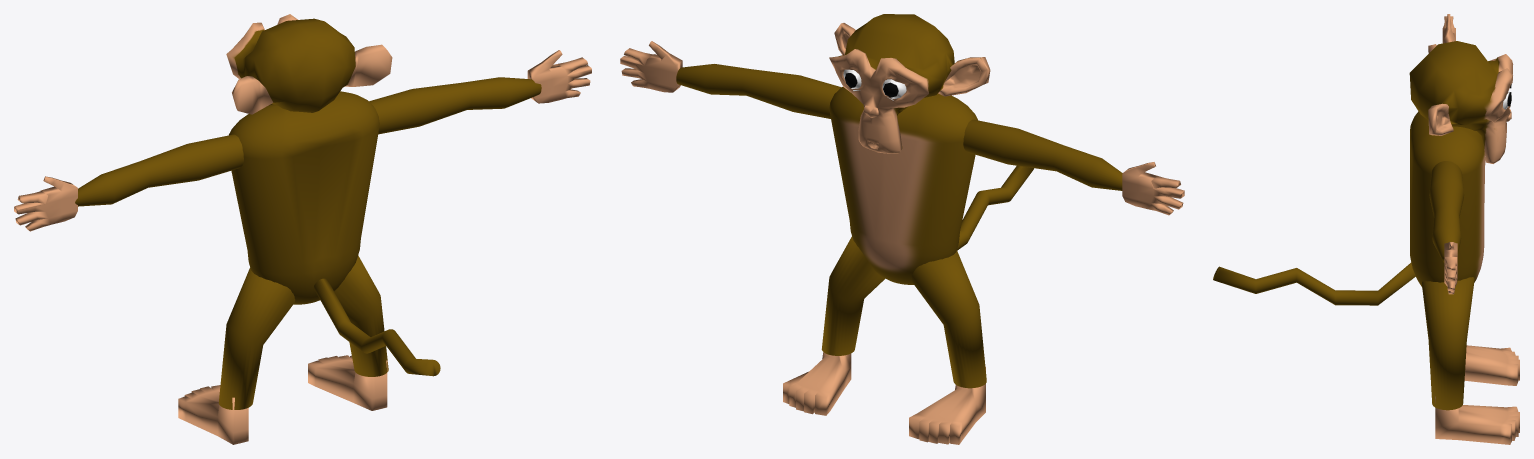
The model's file is Monkey2.fbx.
3 views of the same model, side by side, from view 1: azimuth 30°, elevation 25°; view 2: azimuth 150°, elevation 25°; view 3: azimuth 270°, elevation 25° (orthographic). The views are drawn at different scales.
Visible parts, largest first — view 1: LeftArm; view 2: LeftArm; view 3: LeftArm.
Boxes of the visible parts, <box> form: LeftArm: <box>14,14,591,444</box>; LeftArm: <box>620,14,1184,444</box>; LeftArm: <box>1213,14,1519,444</box>.
Bounding box in the file's own units: 603 × 394 × 308.
